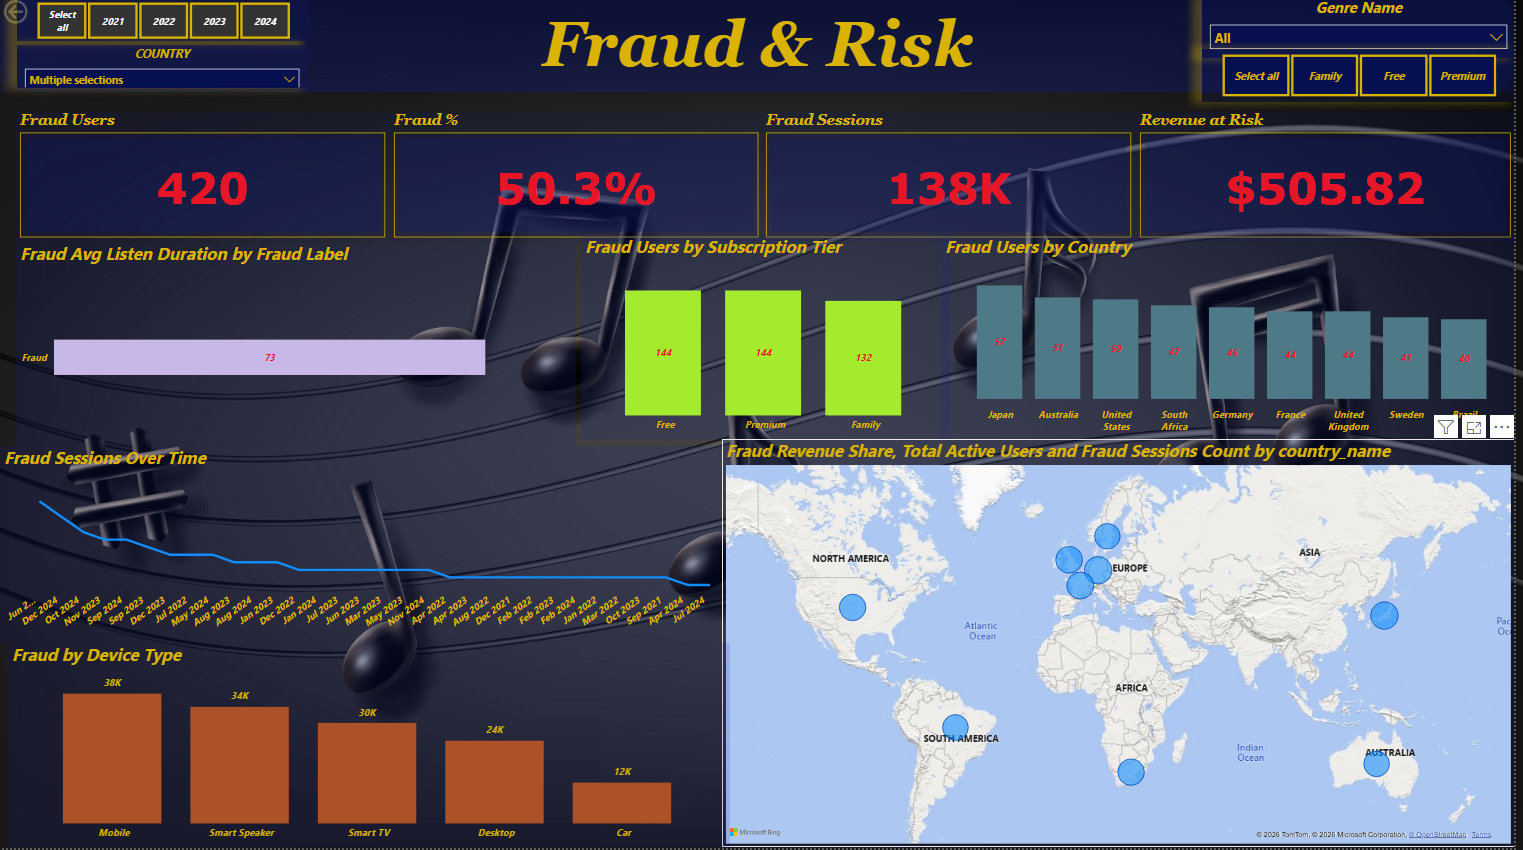

The dashboard page shown, as its layout file describes it:
{"tool":"powerbi","page":{"name":"Fraud & Risk","canvas":[1920,1080],"ordinal":6},"visuals":[{"type":"shape","box":[0,1.5,1920,121.1],"z":0},{"type":"cardVisual","title":"Fraud %","fields":{"Data":["bridge_playlist_track.Fraud User %"]},"box":[494.2,147.5,472.2,164.3],"z":1000},{"type":"actionButton","box":[0,0,100,40],"z":2000},{"type":"cardVisual","title":"Revenue at Risk","fields":{"Data":["bridge_playlist_track.Fraud Revenue Exposure"]},"box":[1440,147.5,480,164.3],"z":3000},{"type":"cardVisual","title":"Fraud Sessions","fields":{"Data":["bridge_playlist_track.Fraud Sessions Count"]},"box":[966.5,147.5,473.5,164.3],"z":4000},{"type":"group","id":"g1","title":"Group 2","box":[21,1.4,369.7,114.7],"z":5000},{"type":"cardVisual","title":"Fraud Users","fields":{"Data":["bridge_playlist_track.Fraud User Count"]},"box":[20.7,147.5,473.5,164.3],"z":6000},{"type":"slicer","title":"Genre Name","fields":{"Values":["dim_genre.genre_name"]},"box":[1523.2,1.5,396.8,77.3],"z":7000},{"type":"lineChart","title":"Fraud Sessions Over Time","fields":{"Category":["dim_date.Month-Year"],"Y":["bridge_playlist_track.Fraud Sessions Count"]},"box":[0,570.6,914.7,249.7],"z":8000},{"type":"slicer","fields":{"Values":["dim_user.subscription_tier"]},"box":[1523.2,67.1,396.8,67.1],"z":9000},{"type":"clusteredBarChart","fields":{"Category":["dim_user.Fraud Label"],"Y":["bridge_playlist_track.Fraud Avg Listen Duration"]},"box":[20.7,311.8,710.3,258.8],"z":10000},{"type":"slicer","fields":{"Values":["dim_date.year"]},"box":[21,1.4,369.7,55.8],"z":11000,"group":"g1"},{"type":"clusteredColumnChart","title":"Fraud Users by Subscription Tier","fields":{"Category":["dim_user.subscription_tier"],"Y":["bridge_playlist_track.Fraud User Count"]},"box":[736.2,302.7,467.1,258.8],"z":11000},{"type":"slicer","title":"COUNTRY","fields":{"Values":["dim_country.country_name"]},"box":[21,62.1,367.7,54],"z":12000,"group":"g1"},{"type":"clusteredColumnChart","title":"Fraud Users by Country","fields":{"Y":["bridge_playlist_track.Fraud User Count"],"Category":["dim_country.country_name"]},"box":[1192.9,302.7,727.1,258.8],"z":12000},{"type":"map","fields":{"Category":["dim_country.country_name"],"Size":["bridge_playlist_track.Fraud Revenue Share"]},"box":[914.7,561.5,1005.3,517.5],"z":13000},{"type":"clusteredColumnChart","title":"Fraud by Device Type","fields":{"Y":["bridge_playlist_track.Fraud Sessions Count"],"Category":["dim_device.device_type"]},"box":[10.4,820.3,914.7,258.8],"z":14000}]}

Visuals, with their boxes in screenshot pixels (x1, y1, x2, y2), scaled from the page's 1920x1080 canvas onto the 1523x850 screenshot:
shape: bbox=(0, 1, 1522, 96)
"Fraud %" cardVisual: bbox=(392, 116, 767, 245)
actionButton: bbox=(0, 0, 79, 31)
"Revenue at Risk" cardVisual: bbox=(1142, 116, 1522, 245)
"Fraud Sessions" cardVisual: bbox=(767, 116, 1142, 245)
"Group 2" group: bbox=(17, 1, 310, 91)
"Fraud Users" cardVisual: bbox=(16, 116, 392, 245)
"Genre Name" slicer: bbox=(1208, 1, 1522, 62)
"Fraud Sessions Over Time" lineChart: bbox=(0, 449, 726, 646)
slicer - dim_user.subscription_tier: bbox=(1208, 53, 1522, 106)
clusteredBarChart - dim_user.Fraud Label x bridge_playlist_track.Fraud Avg Listen Duration: bbox=(16, 245, 580, 449)
slicer - dim_date.year: bbox=(17, 1, 310, 45)
"Fraud Users by Subscription Tier" clusteredColumnChart: bbox=(584, 238, 954, 442)
"COUNTRY" slicer: bbox=(17, 49, 308, 91)
"Fraud Users by Country" clusteredColumnChart: bbox=(946, 238, 1522, 442)
map - dim_country.country_name x bridge_playlist_track.Fraud Revenue Share: bbox=(726, 442, 1522, 849)
"Fraud by Device Type" clusteredColumnChart: bbox=(8, 646, 734, 849)
